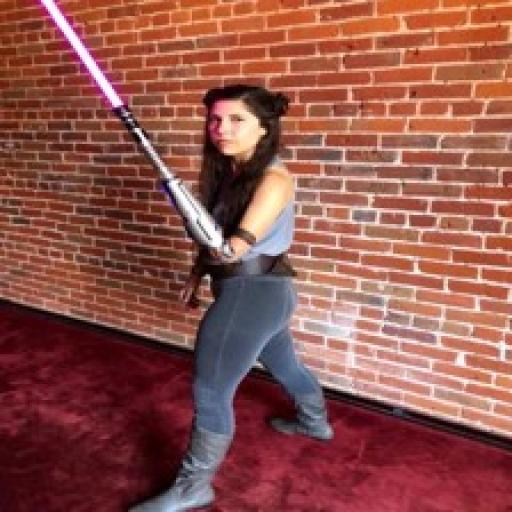human: (128, 84, 333, 512)
lightsaber: (44, 1, 173, 178)
